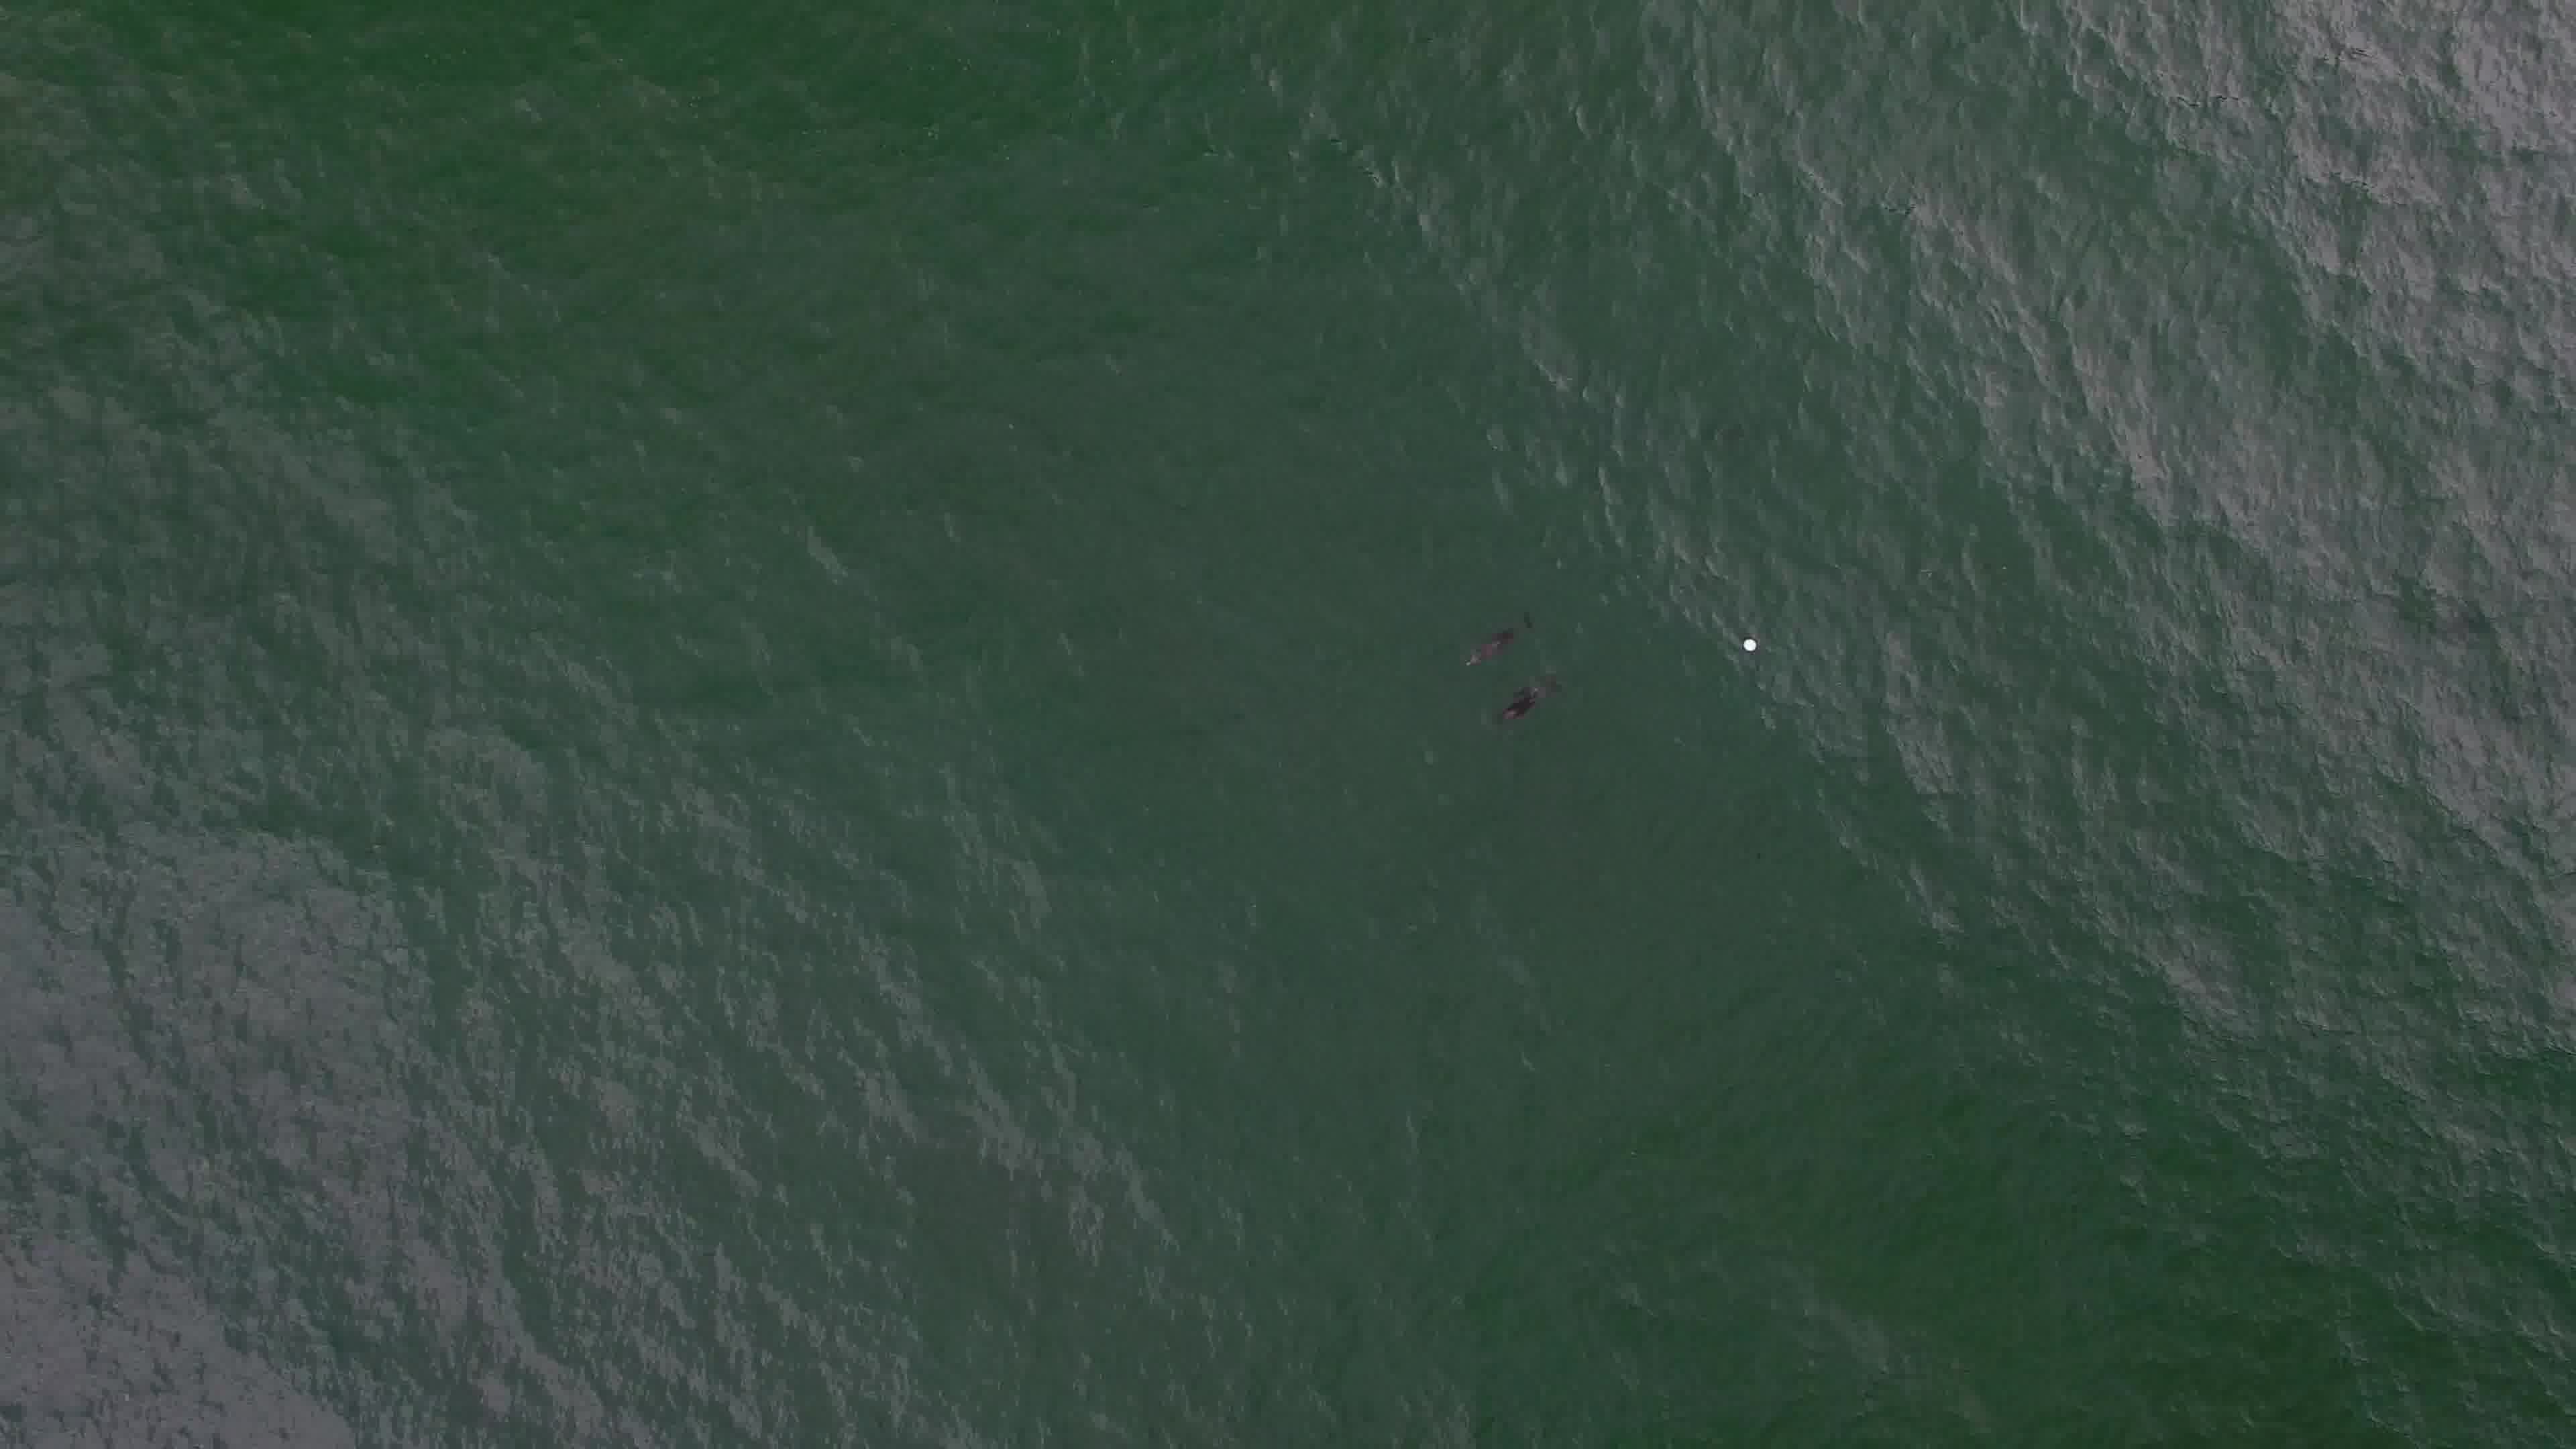dolphin: (1442, 644, 1575, 725), (1433, 600, 1545, 674)
